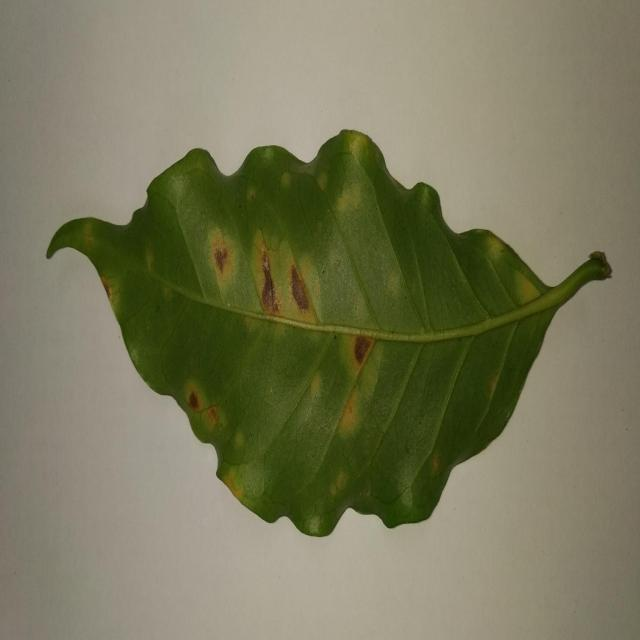Enfermedad-Mancha-de-hierro: (44, 131, 613, 541)
